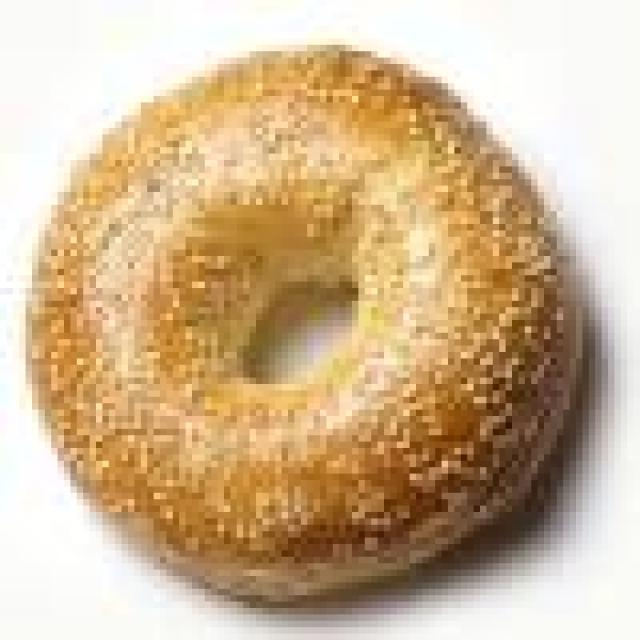Bagel: (30, 46, 581, 602)
